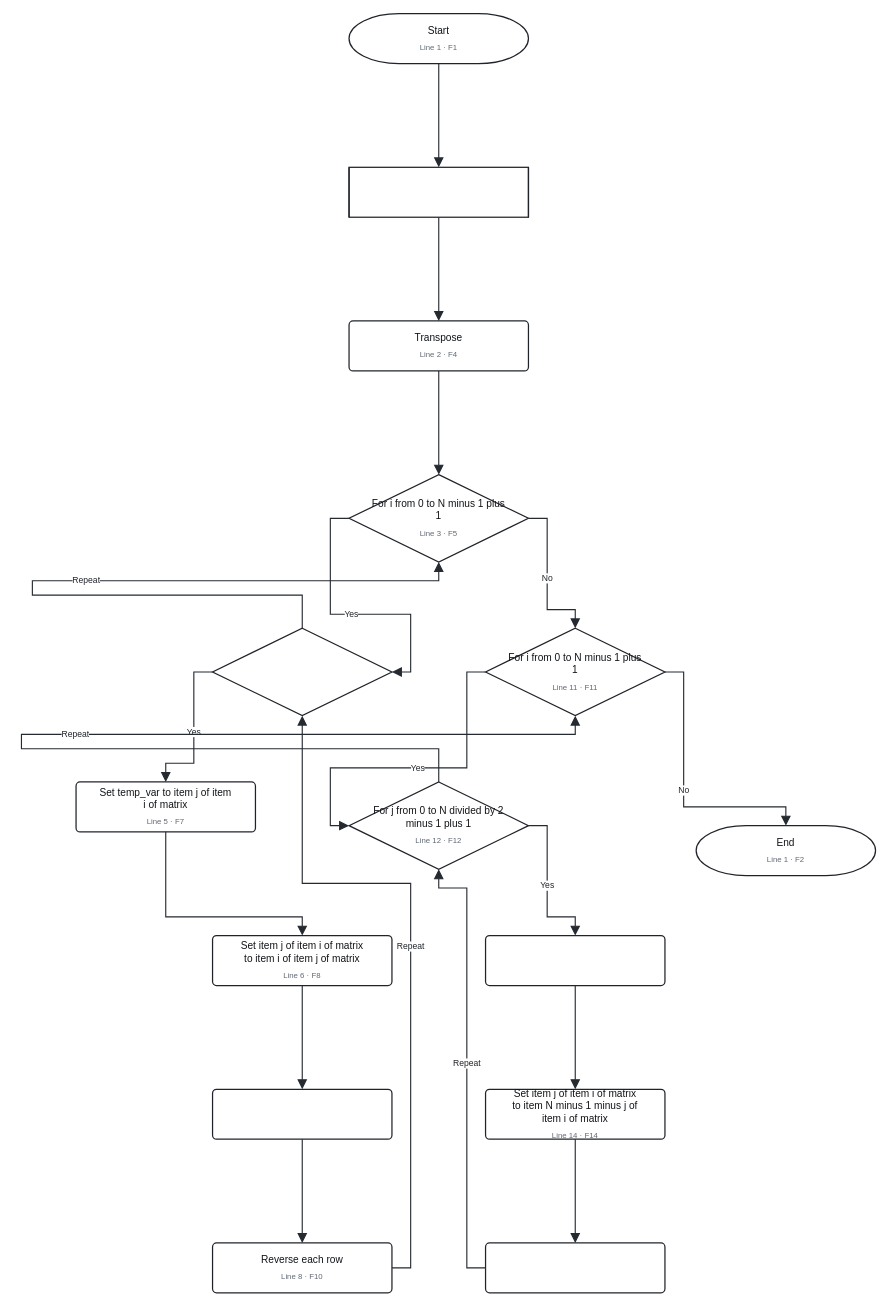
The diagram is 890 pixels wide and 1307 high, and some of its shapes have lost their labels. The centre of each missing label's shape, as x and y in pixels:
For j from i plus 1 to N minus 1 plus 1 Line 4 · F6: point 302,671
Run function rotateMatrix with matrix, N Line 1 · F3: point 438,191
Set item i of item j of matrix to temp_var Line 7 · F9: point 302,1113
Set item N minus 1 minus j of item i of matrix to temp_var Line 15 · F15: point 575,1267
Set temp_var to item j of item i of matrix Line 13 · F13: point 575,960
